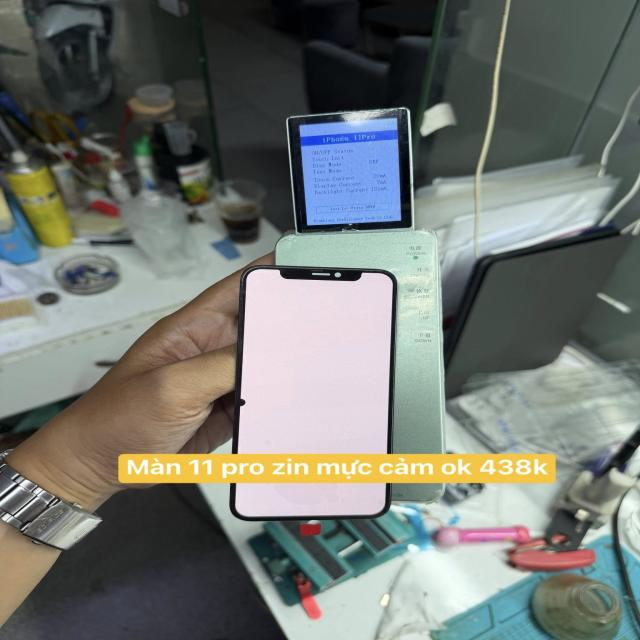gen_12_13: (233, 267, 397, 456), (231, 481, 390, 519)
screen_defect: (235, 394, 247, 409)
